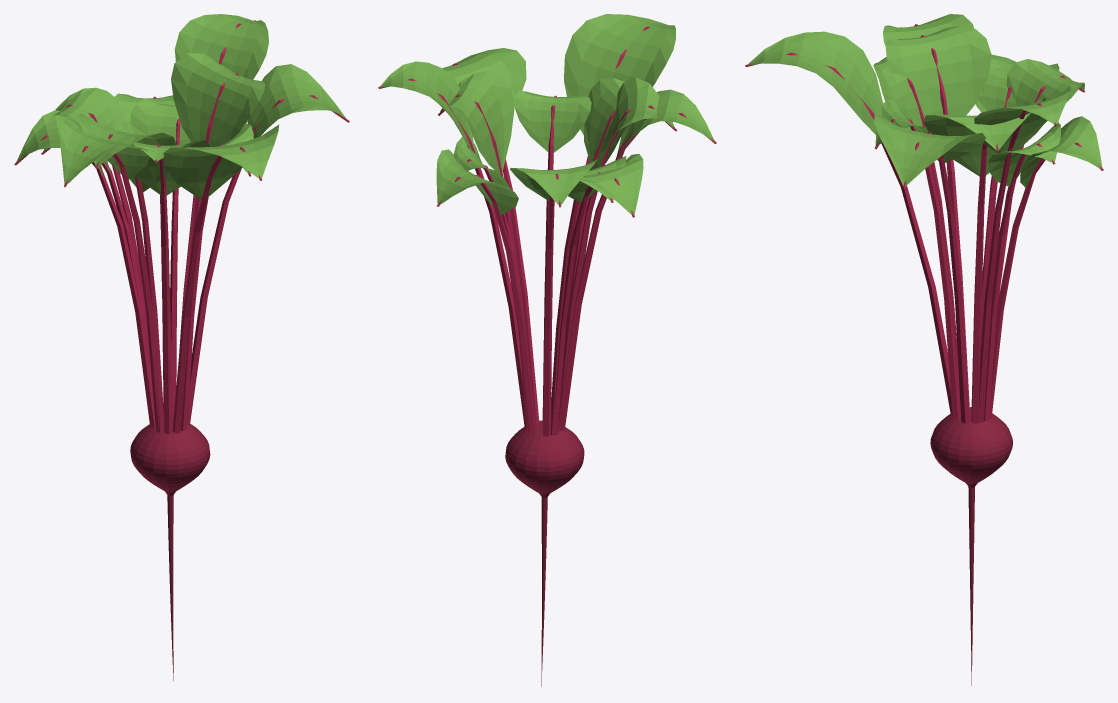
The model's file is beetroot_harvest_v22.glb.
3 renders of one model, left to right at view 1: azimuth 30°, elevation 25°; view 2: azimuth 150°, elevation 25°; view 3: azimuth 270°, elevation 25°, orthographic. The views are drawn at different scales.
Visible parts, largest first — view 1: plant; view 2: plant; view 3: plant.
Boxes of the visible parts, x1,y1,x2,y2 form: plant: [14, 14, 349, 680]; plant: [378, 14, 716, 686]; plant: [745, 14, 1103, 685].
Bounding box in the file's own units: 0.2228 × 0.4607 × 0.235.
1 material, 1 textured.
